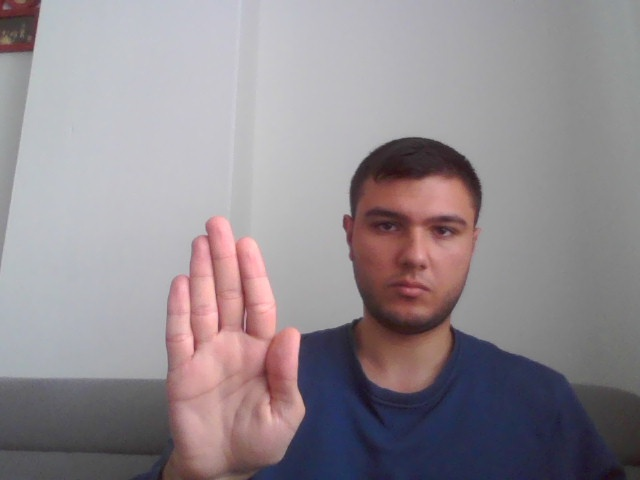Hello: (162, 215, 310, 468)
